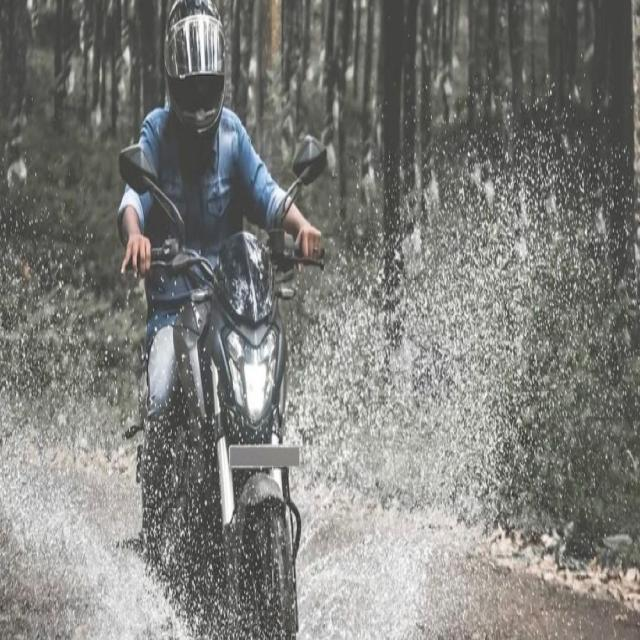motorcycle: (118, 0, 322, 637)
